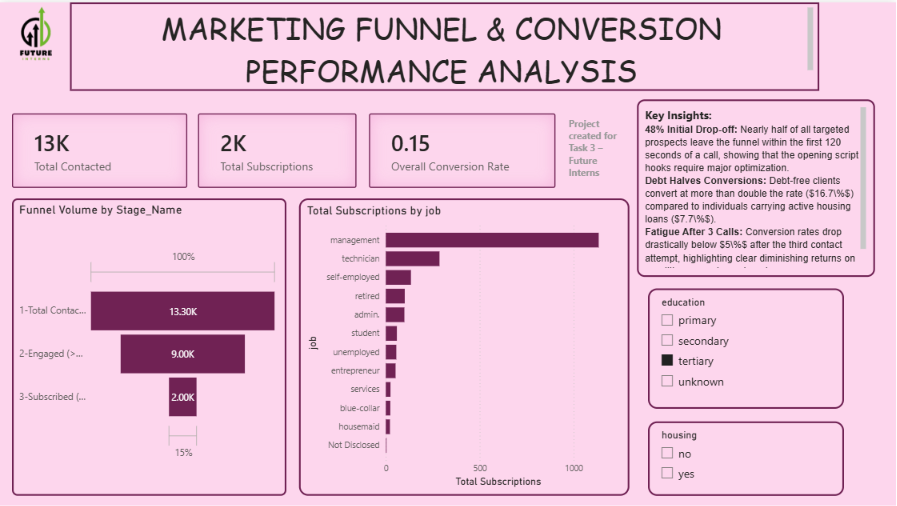

What the dashboard file says about the page in this screenshot:
{"tool":"powerbi","page":{"name":"Page 1","canvas":[1280,720],"ordinal":0},"visuals":[{"type":"cardVisual","fields":{"Data":["_Measures.Total Contacted"]},"box":[16.7,158.3,250,106.7],"z":0},{"type":"cardVisual","fields":{"Data":["_Measures.Total Subscriptions"]},"box":[283.3,158.3,226.7,106.7],"z":1},{"type":"cardVisual","fields":{"Data":["_Measures.Overall Conversion Rate"]},"box":[526.7,158.3,266.7,106.7],"z":2},{"type":"funnel","fields":{"Category":["Funnel Stages.Stage_Name"],"Y":["_Measures.Funnel Volume"]},"box":[16.7,280,391.7,425],"z":3},{"type":"clusteredBarChart","fields":{"Category":["bank-full.job"],"Y":["_Measures.Total Subscriptions"]},"box":[426.7,280,471.7,425],"z":4},{"type":"slicer","fields":{"Values":["bank-full.education"]},"box":[925,408.3,280,171.7],"z":5},{"type":"slicer","fields":{"Values":["bank-full.housing"]},"box":[925,598.3,280,106.7],"z":6},{"type":"image","box":[0,0,100,90],"z":7},{"type":"textbox","box":[100,0,1070,126.7],"z":8},{"type":"textbox","box":[806.7,158.3,91.7,106.7],"z":9},{"type":"textbox","box":[910,138.3,340,253.3],"z":10}]}

Visuals, with their boxes in screenshot pixels (x1, y1, x2, y2), scaled from the page's 1280x720 canvas onto the 897x506 screenshot:
cardVisual - _Measures.Total Contacted: [12,111,187,186]
cardVisual - _Measures.Total Subscriptions: [199,111,357,186]
cardVisual - _Measures.Overall Conversion Rate: [369,111,556,186]
funnel - Funnel Stages.Stage_Name x _Measures.Funnel Volume: [12,197,286,495]
clusteredBarChart - bank-full.job x _Measures.Total Subscriptions: [299,197,630,495]
slicer - bank-full.education: [648,287,844,408]
slicer - bank-full.housing: [648,420,844,495]
image: [0,0,70,63]
textbox: [70,0,820,89]
textbox: [565,111,630,186]
textbox: [638,97,876,275]
